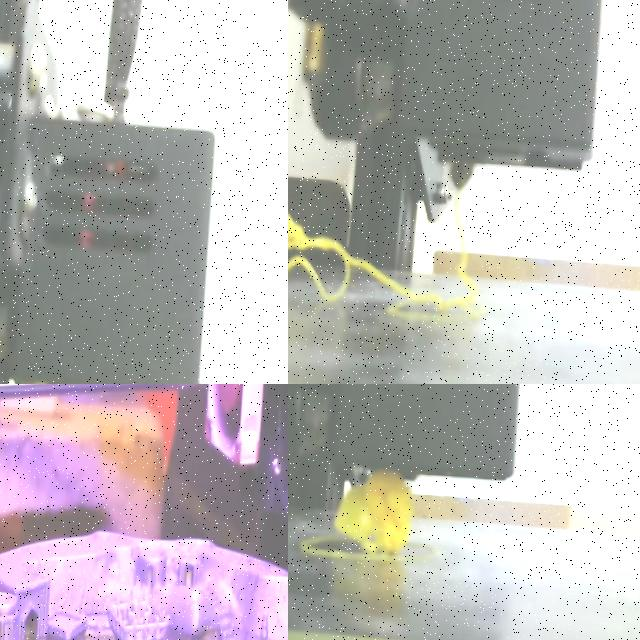spaghetti: (288, 191, 483, 319), (334, 470, 412, 554)
